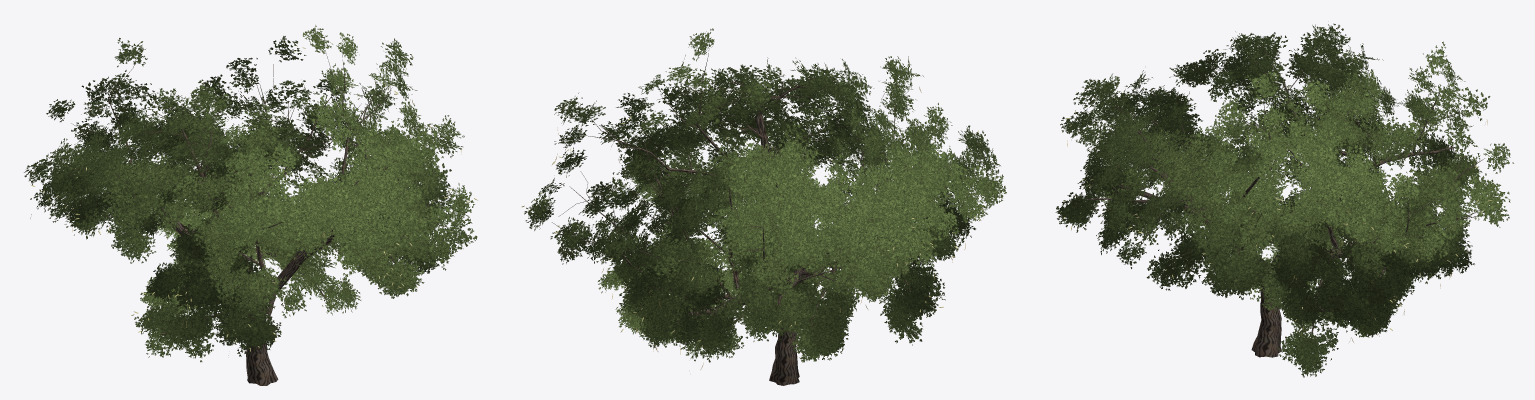
The model's file is adult-a.lod0.glb.
The picture shows the model from 3 angles, left to right: view 1: azimuth 30°, elevation 25°; view 2: azimuth 150°, elevation 25°; view 3: azimuth 270°, elevation 25°; orthographic projection. The views are drawn at different scales.
Parts seen in each view (by area): view 1: foliage, bark; view 2: foliage, bark; view 3: foliage, bark.
Boxes of the visible parts, x1,y1,x2,y2 form: foliage: (24, 25, 477, 362); bark: (52, 52, 447, 385); foliage: (524, 28, 1006, 362); bark: (552, 46, 978, 385); foliage: (1055, 23, 1513, 377); bark: (1086, 46, 1484, 357).
Bounding box in the file's own units: 9.33 × 7.5 × 9.83.
Materials: 5 (3 with a texture image).
